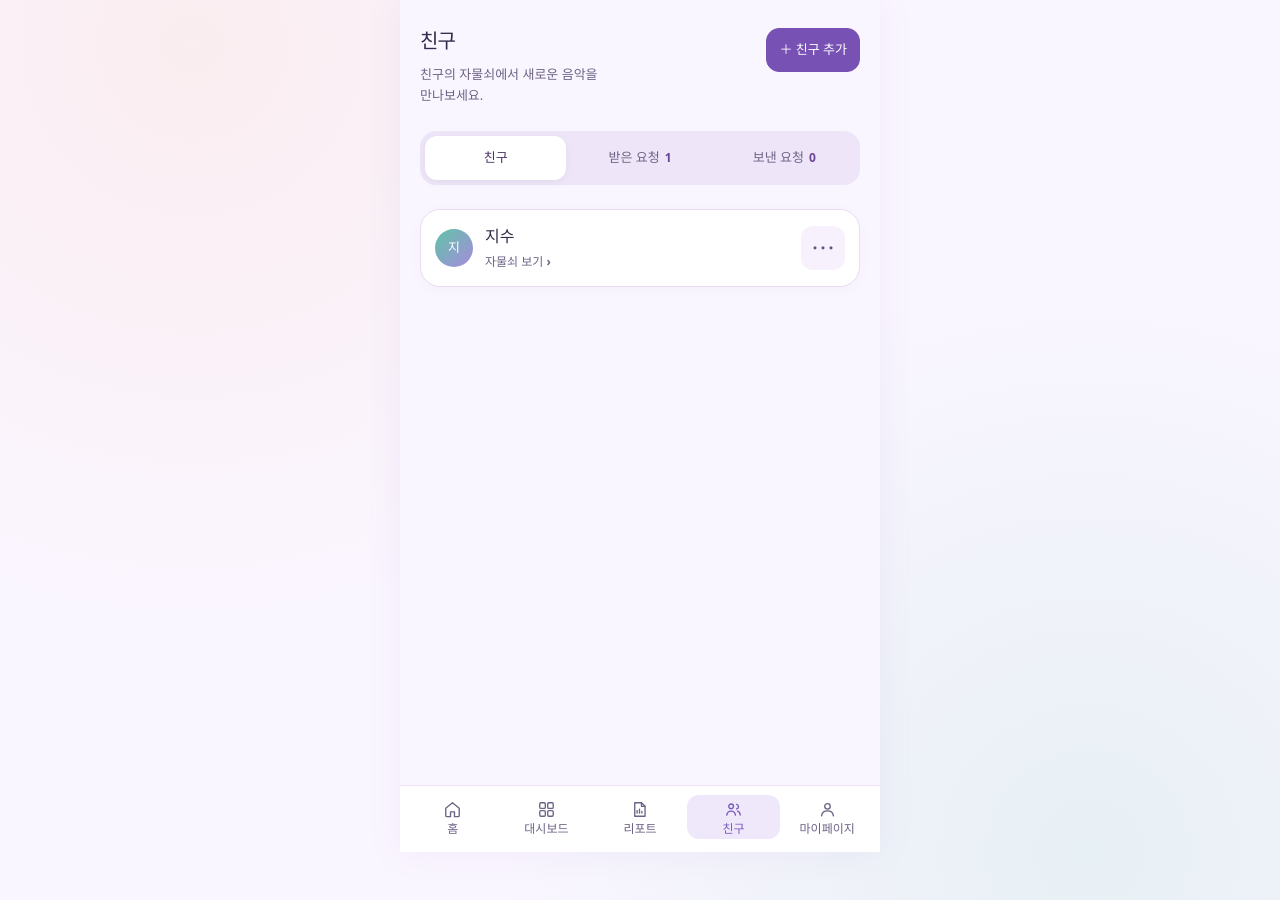
Test: FriendsPage › 성공 안내의 닫기를 누르면 4초를 기다리지 않고 바로 숨긴다
Expected: the link "지 지수 자물쇠 보기 ›" is shown, [435,225,551,270]
Click the button "＋ 친구 추가" at (813, 50), box [766,28,860,72]
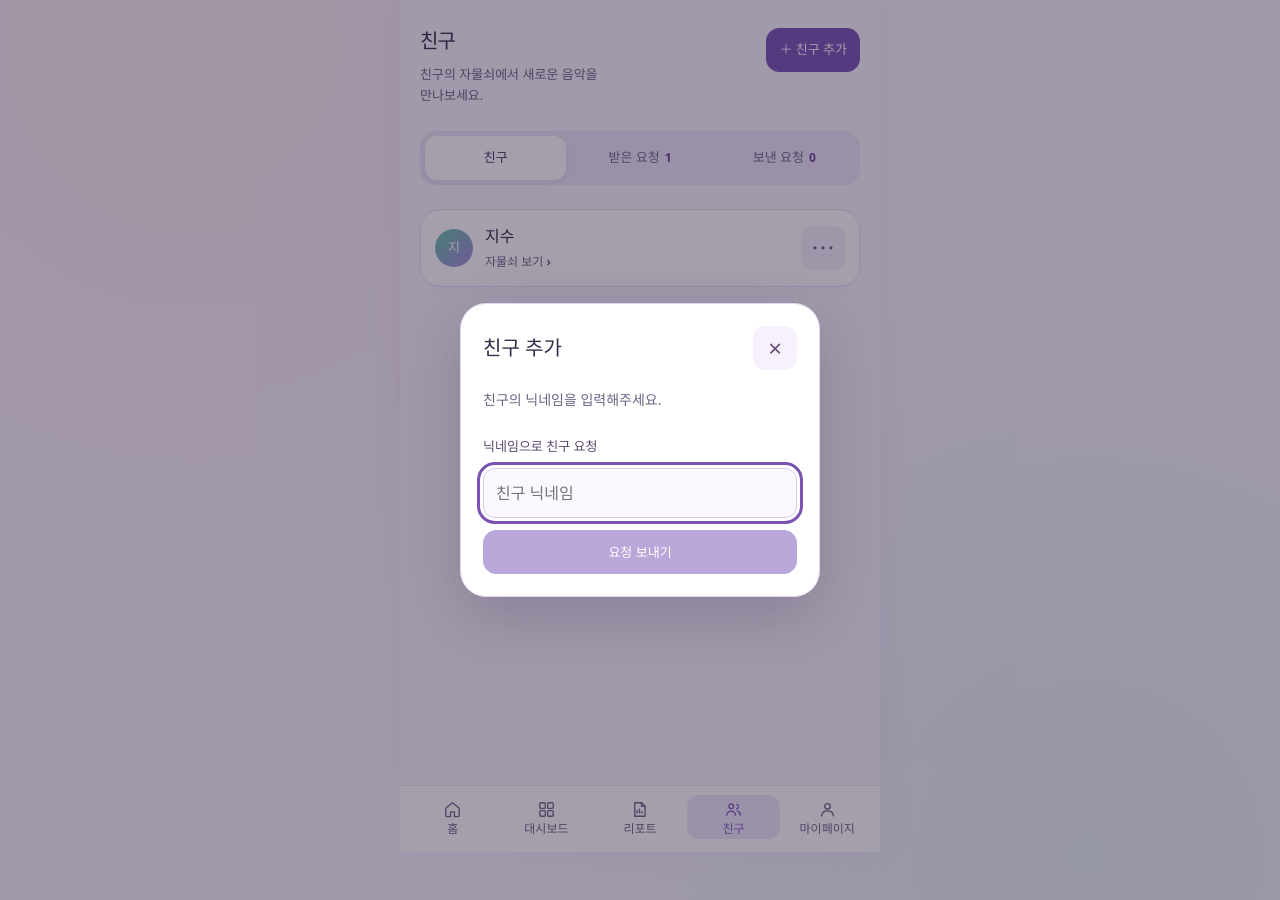
Type "새친구" into the field labelled "닉네임으로 친구 요청" at (640, 493), box [483,468,797,518]
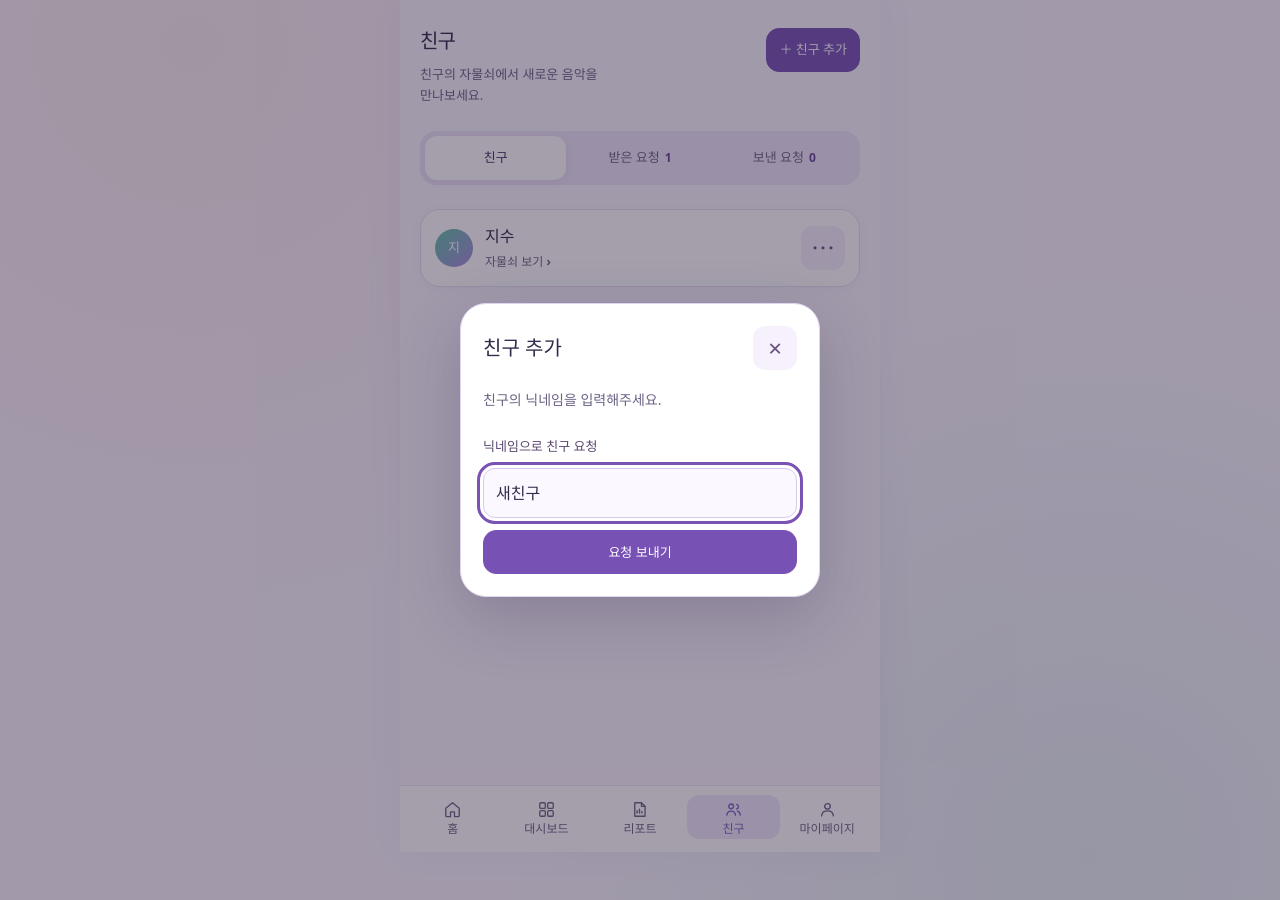
Click the button "요청 보내기" at (640, 552), box [483,530,797,574]
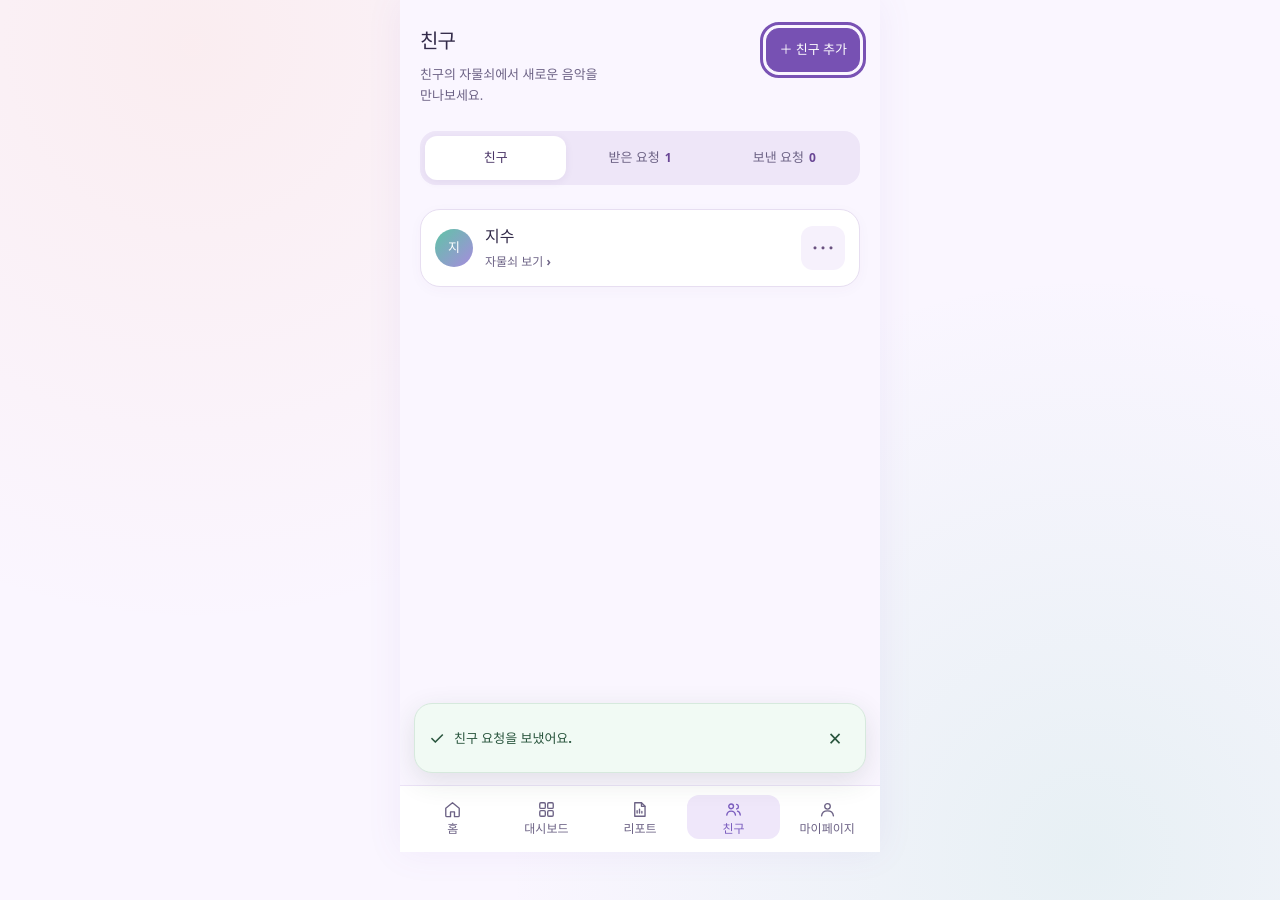
Click the button named "완료 안내 닫기" at (835, 738), box [813,716,857,760]
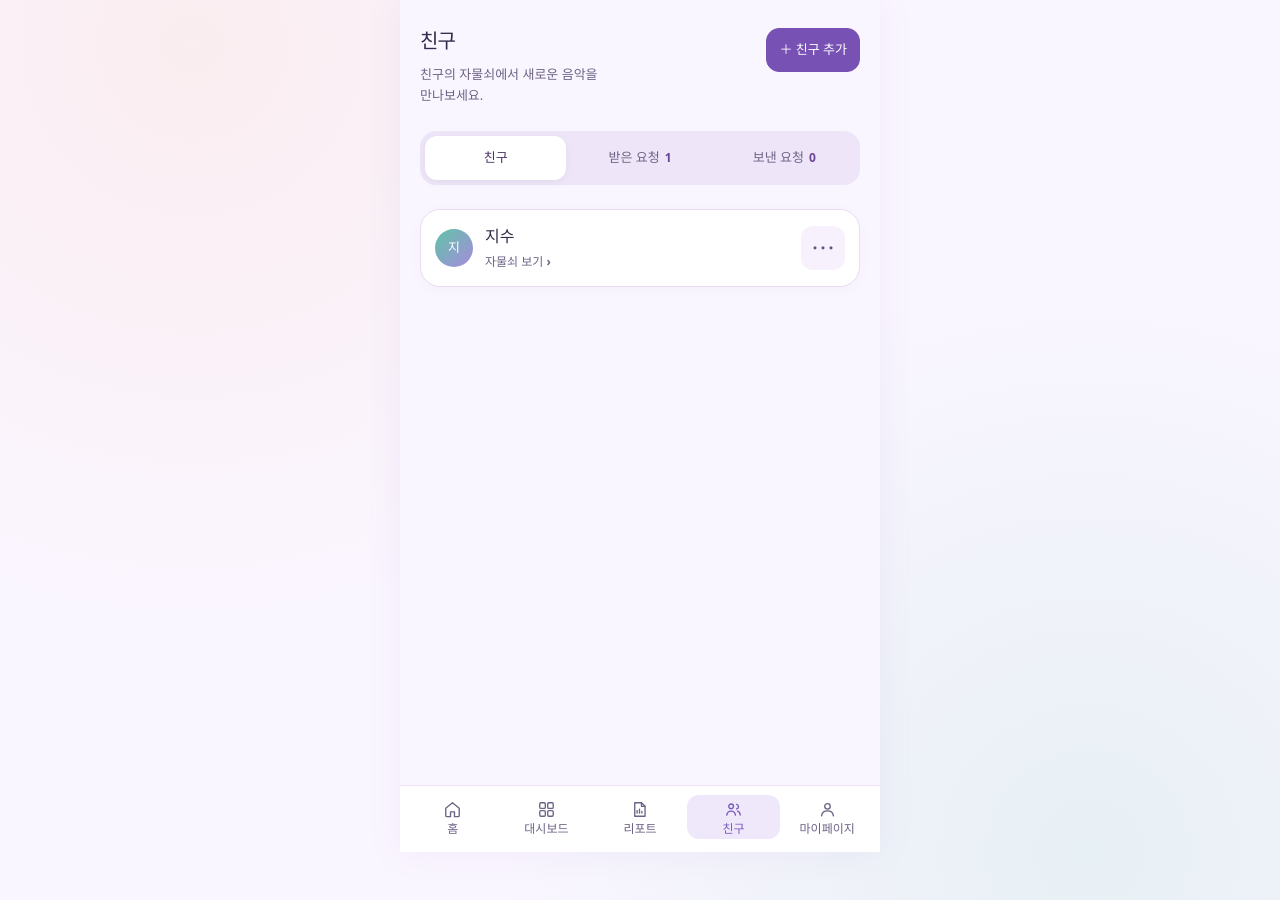
Result: the text "친구 요청을 보냈어요." is gone
